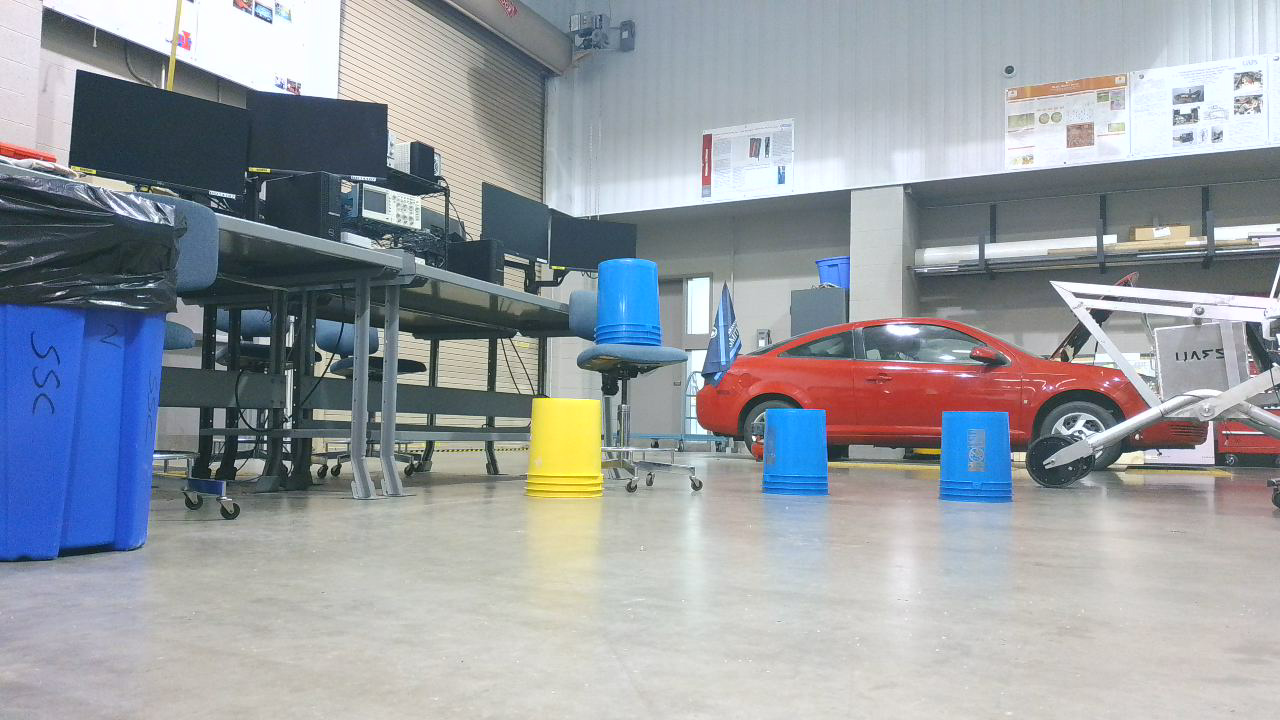blue_bucket: (940, 413, 1023, 512), (596, 259, 673, 354), (763, 410, 839, 504)
yellow_bucket: (524, 399, 613, 506)
